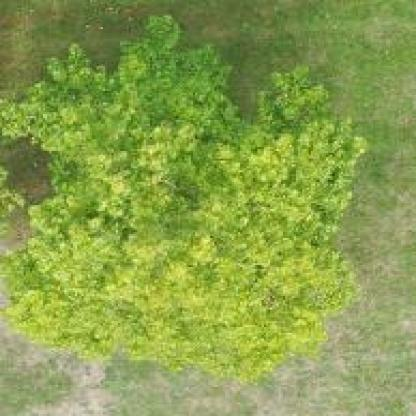Deciduous Tree: (0, 10, 367, 379)
